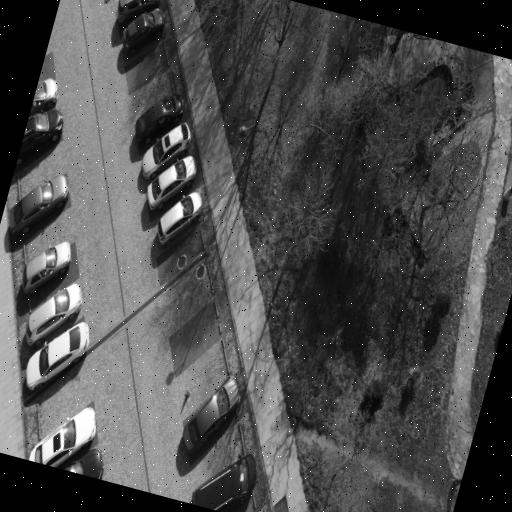person: (183, 377, 240, 454), (26, 322, 89, 390), (29, 408, 96, 467), (192, 455, 256, 511), (26, 283, 82, 346), (9, 175, 68, 234), (141, 123, 190, 179), (16, 108, 63, 165), (147, 156, 196, 210), (22, 242, 71, 294), (135, 94, 183, 144), (158, 192, 202, 244), (123, 9, 164, 55), (68, 448, 104, 479), (118, 0, 160, 24), (30, 79, 58, 114)
